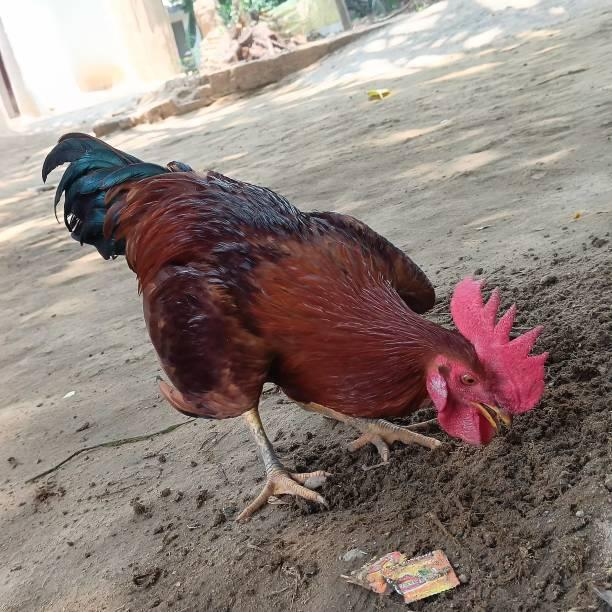AbNormal: (38, 112, 612, 517)
